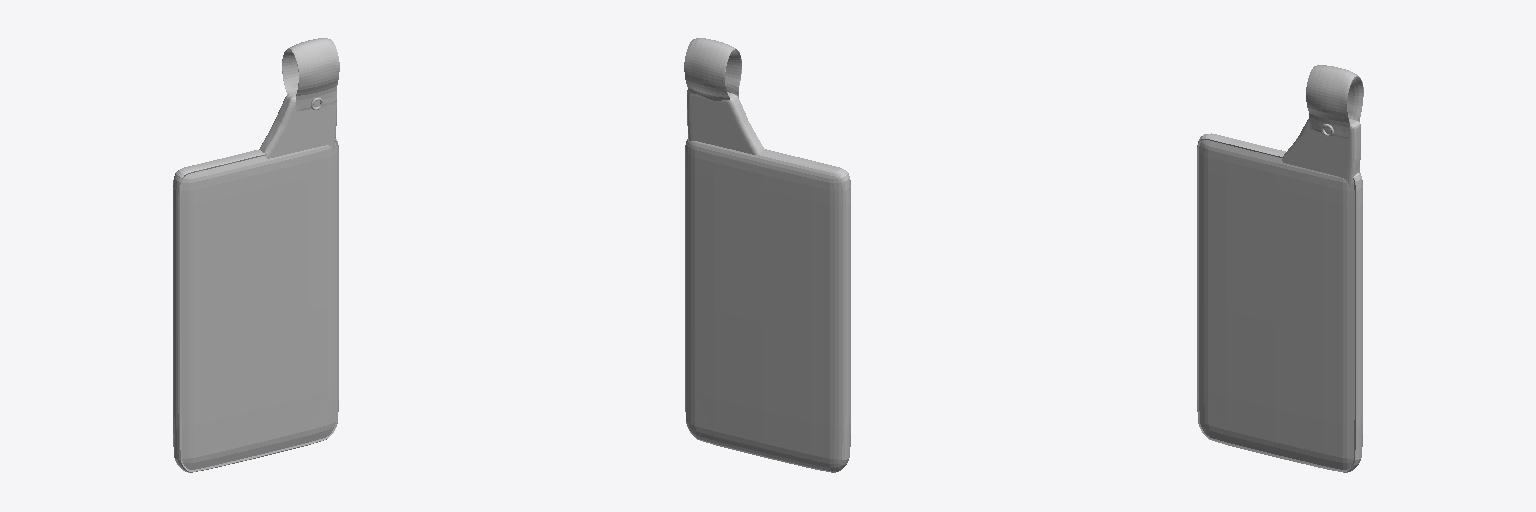
Rendered from highPoly_Sheath.obj.
3 views of the same model, side by side, from view 1: azimuth 30°, elevation 25°; view 2: azimuth 150°, elevation 25°; view 3: azimuth 330°, elevation 25° (orthographic).
Parts seen in each view (by area): view 1: pCube1, pCube1 pTorus1, pCube1 pCube2; view 2: pCube1, pCube1 pCube2, pCube1 pTorus1; view 3: pCube1, pCube1 pTorus1, pCube1 pCube2.
Part boxes in pixels (left/top/right/bottom): pCube1: left=173, top=139, right=338, bottom=472; pCube1 pTorus1: left=282, top=38, right=339, bottom=111; pCube1 pCube2: left=259, top=92, right=336, bottom=158; pCube1: left=685, top=139, right=850, bottom=472; pCube1 pCube2: left=687, top=90, right=764, bottom=154; pCube1 pTorus1: left=684, top=38, right=741, bottom=100; pCube1: left=1197, top=133, right=1362, bottom=472; pCube1 pTorus1: left=1306, top=65, right=1363, bottom=139; pCube1 pCube2: left=1282, top=119, right=1360, bottom=187.
Bounding box in the file's own units: 0.1675 × 0.394 × 0.0336.